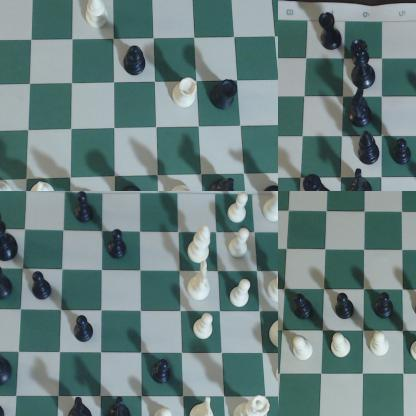black-bishop: (356, 130, 385, 170), (122, 42, 148, 78)
black-king: (1, 205, 21, 264), (302, 170, 338, 191)
black-knight: (349, 85, 380, 128), (347, 168, 377, 191), (67, 395, 96, 416), (210, 174, 240, 191)
black-pawn: (71, 193, 100, 227), (291, 291, 315, 325), (72, 313, 97, 345), (154, 354, 175, 392), (334, 287, 358, 320), (31, 271, 56, 301), (372, 292, 396, 322), (109, 229, 130, 262), (391, 138, 412, 165), (107, 397, 135, 416)
black-queen: (349, 34, 381, 91), (1, 344, 16, 387)
black-rook: (313, 11, 345, 54), (211, 80, 243, 115), (1, 264, 17, 307)
white-bishop: (187, 225, 216, 265), (82, 1, 113, 37), (265, 265, 278, 303), (170, 180, 196, 191)
white-king: (267, 303, 278, 352)
white-knight: (186, 260, 213, 303), (190, 397, 219, 416), (29, 180, 57, 191)
white-pawn: (328, 331, 360, 369), (285, 331, 316, 369), (368, 331, 395, 368), (227, 192, 251, 227), (192, 310, 216, 345), (230, 277, 255, 309), (230, 229, 254, 262), (152, 404, 175, 416), (409, 336, 416, 374)
white-queen: (231, 395, 274, 416)
white-rook: (170, 78, 199, 113), (266, 192, 278, 225)
